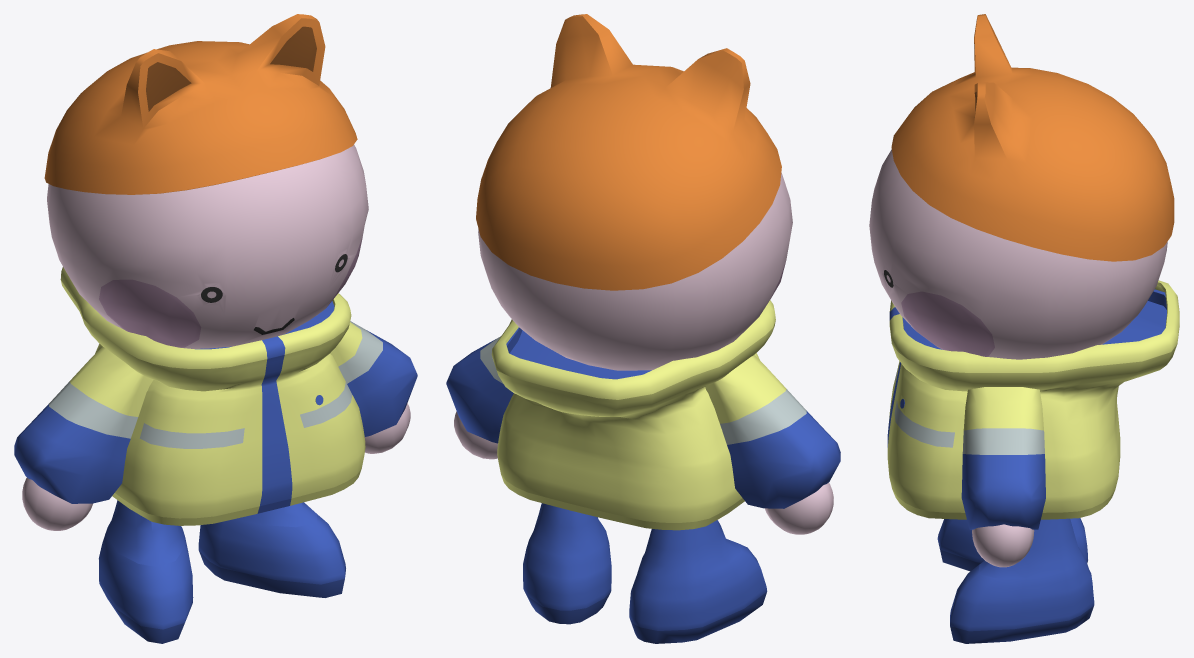
Rendered from Player2.fbx.
3 views of the same model, side by side, from view 1: azimuth 30°, elevation 25°; view 2: azimuth 150°, elevation 25°; view 3: azimuth 270°, elevation 25° (orthographic). The views are drawn at different scales.
Parts seen in each view (by area): view 1: Player 2; view 2: Player 2; view 3: Player 2.
Boxes of the visible parts, x1,y1,x2,y2 form: Player 2: (14, 14, 417, 643); Player 2: (446, 14, 840, 643); Player 2: (869, 14, 1179, 643).
Bounding box in the file's own units: 449 × 640 × 330.
